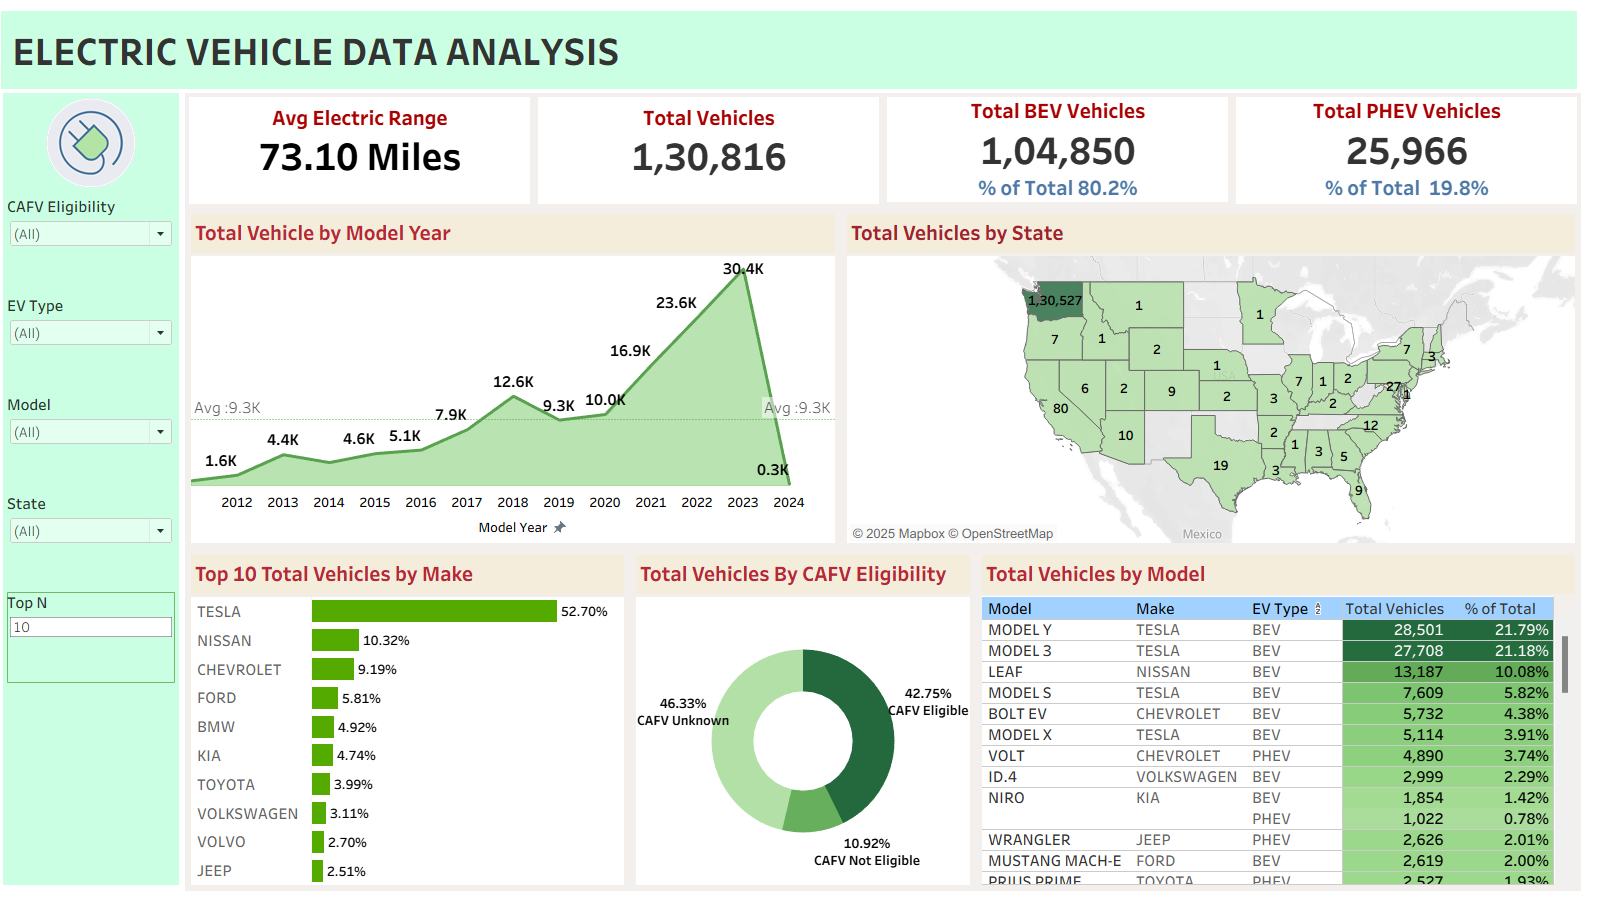

The dashboard page shown, as its layout file describes it:
{"tool":"tableau","page":{"name":"Dashboard 1","canvas":[1000,1000],"units":"permille","ordinal":0},"visuals":[{"type":"title","box":[4.8,9.4,990.3,119.9]},{"type":"filter","title":"Total Vehicles by Models Year","param":"[federated.0vkcwj30b08qpl1h4t2z41wm1571].[none:Clean Alternative Fuel Vehicle (C","box":[4.8,129.3,112.9,108.1]},{"type":"worksheet","title":"Avg Electric Range","mark":"Automatic","box":[117.7,129.3,219.7,176.3]},{"type":"worksheet","title":"Total Vehicles","mark":"Automatic","box":[337.4,129.3,219.7,176.3]},{"type":"worksheet","title":"Total BEV Vehicle","mark":"Automatic","box":[557,129.3,219.1,176.3]},{"type":"worksheet","title":"Total PHEV Vehicle","mark":"Automatic","box":[776.1,129.3,219.1,176.3]},{"type":"filter","title":"Total Vehicles by Models Year","param":"[federated.0vkcwj30b08qpl1h4t2z41wm1571].[none:Electric Vehicle Type:nk]","box":[4.8,237.4,112.9,108.1]},{"type":"worksheet","title":"Total Vehicles by Models Year","mark":"Area","rows":["Calculation_0865095006810112","Calculation_0865095006810112"],"cols":["Model Year"],"box":[117.7,305.5,439.3,314.3]},{"type":"worksheet","title":"Total Vehicles by State","mark":"Multipolygon","box":[557,305.5,438.2,314.3]},{"type":"filter","title":"Total Vehicles by Models Year","param":"[federated.0vkcwj30b08qpl1h4t2z41wm1571].[none:Model:nk]","box":[4.8,345.5,112.9,108.1]},{"type":"filter","title":"Total Vehicles by Models Year","param":"[federated.0vkcwj30b08qpl1h4t2z41wm1571].[none:State:nk]","box":[4.8,453.6,112.9,108.1]},{"type":"blank","box":[4.8,561.7,112.9,108.1]},{"type":"worksheet","title":"Top 10 Vehicles by make","mark":"Automatic","rows":["Make"],"cols":["Calculation_0865095006810112"],"box":[117.7,619.9,273.4,370.8]},{"type":"worksheet","title":"Total Vehicles by CAFV Eligibility","mark":"Pie","rows":["Calculation_0865095040479240","Calculation_0865095040479240"],"box":[391,619.9,275.2,370.8]},{"type":"worksheet","title":"Total Vehicles by Model","mark":"Square","rows":["Model","Make","Electric Vehicle Type"],"box":[666.3,619.9,328.9,370.8]},{"type":"parameter","param":"[Parameters].[Parameter 1]","box":[308.4,628.7,67,31.7]},{"type":"blank","box":[4.8,669.8,112.9,106.9]},{"type":"blank","box":[4.8,776.7,112.9,106.9]},{"type":"blank","box":[4.8,883.7,112.9,106.9]}]}

Visuals, with their boxes on the dashboard's canvas, which has no fixed pixel size, in thousandths of its width and height (x1, y1, x2, y2). These are canvas units, not pixel positions in the 1597x901 screenshot, which may show the page scaled, cropped or inside an application window:
title: {"x1": 5, "y1": 9, "x2": 995, "y2": 129}
"Total Vehicles by Models Year" filter: {"x1": 5, "y1": 129, "x2": 118, "y2": 237}
"Avg Electric Range" worksheet: {"x1": 118, "y1": 129, "x2": 337, "y2": 306}
"Total Vehicles" worksheet: {"x1": 337, "y1": 129, "x2": 557, "y2": 306}
"Total BEV Vehicle" worksheet: {"x1": 557, "y1": 129, "x2": 776, "y2": 306}
"Total PHEV Vehicle" worksheet: {"x1": 776, "y1": 129, "x2": 995, "y2": 306}
"Total Vehicles by Models Year" filter: {"x1": 5, "y1": 237, "x2": 118, "y2": 346}
"Total Vehicles by Models Year" worksheet (Area marks): {"x1": 118, "y1": 306, "x2": 557, "y2": 620}
"Total Vehicles by State" worksheet (Multipolygon marks): {"x1": 557, "y1": 306, "x2": 995, "y2": 620}
"Total Vehicles by Models Year" filter: {"x1": 5, "y1": 346, "x2": 118, "y2": 454}
"Total Vehicles by Models Year" filter: {"x1": 5, "y1": 454, "x2": 118, "y2": 562}
blank: {"x1": 5, "y1": 562, "x2": 118, "y2": 670}
"Top 10 Vehicles by make" worksheet: {"x1": 118, "y1": 620, "x2": 391, "y2": 991}
"Total Vehicles by CAFV Eligibility" worksheet (Pie marks): {"x1": 391, "y1": 620, "x2": 666, "y2": 991}
"Total Vehicles by Model" worksheet (Square marks): {"x1": 666, "y1": 620, "x2": 995, "y2": 991}
parameter: {"x1": 308, "y1": 629, "x2": 375, "y2": 660}
blank: {"x1": 5, "y1": 670, "x2": 118, "y2": 777}
blank: {"x1": 5, "y1": 777, "x2": 118, "y2": 884}
blank: {"x1": 5, "y1": 884, "x2": 118, "y2": 991}
